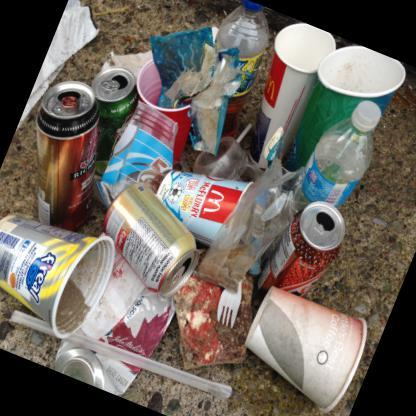Garbage: (0, 64, 415, 415), (28, 0, 309, 298), (0, 148, 310, 415), (171, 153, 415, 415), (207, 15, 415, 250), (36, 192, 220, 402), (103, 0, 279, 171), (166, 136, 311, 319)
